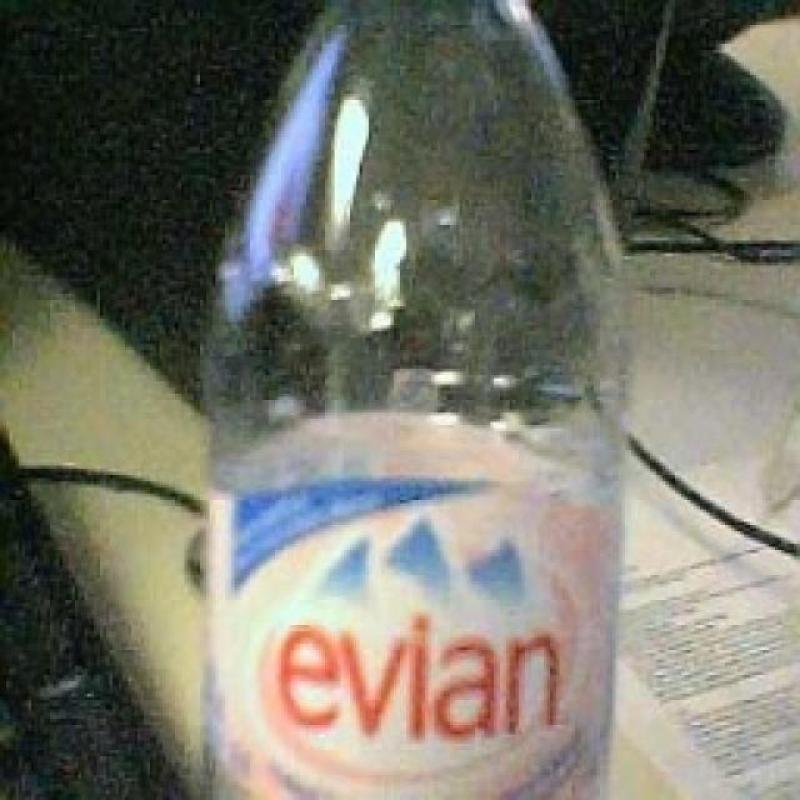botella: (201, 0, 624, 800)
